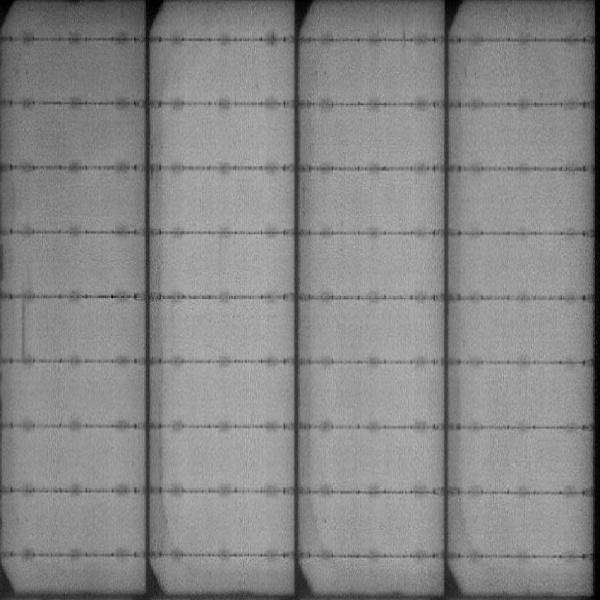scratch: (15, 301, 31, 361)
